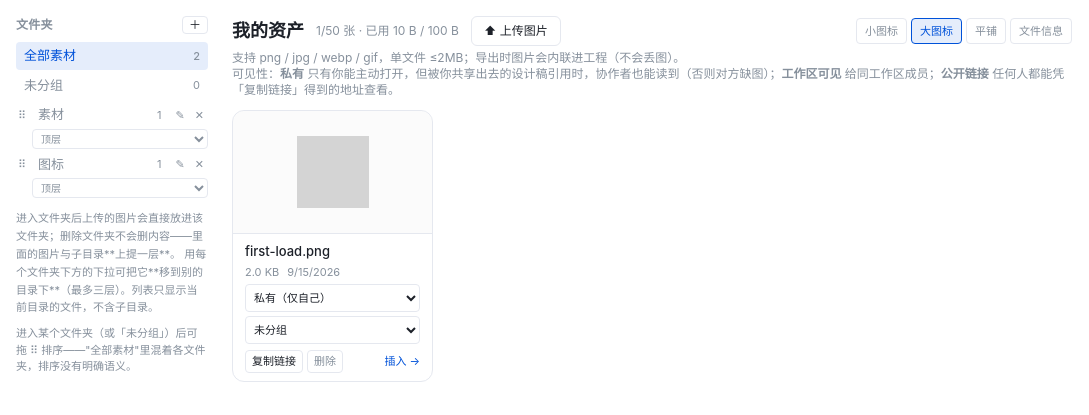
Test: AssetsPage 过期响应 › 切换文件夹时，慢的旧资产响应不能覆盖当前网格
The width and height of the screenshot is (1089, 415).
Expected: the text "first-load.png" is shown, [245,242,330,262]
Note: 先点文件夹 2（请求挂着），再点文件夹 1（请求立刻返回最新结果）
Click the button with test id "folder-2" at [100, 164], box [30,150,170,178]
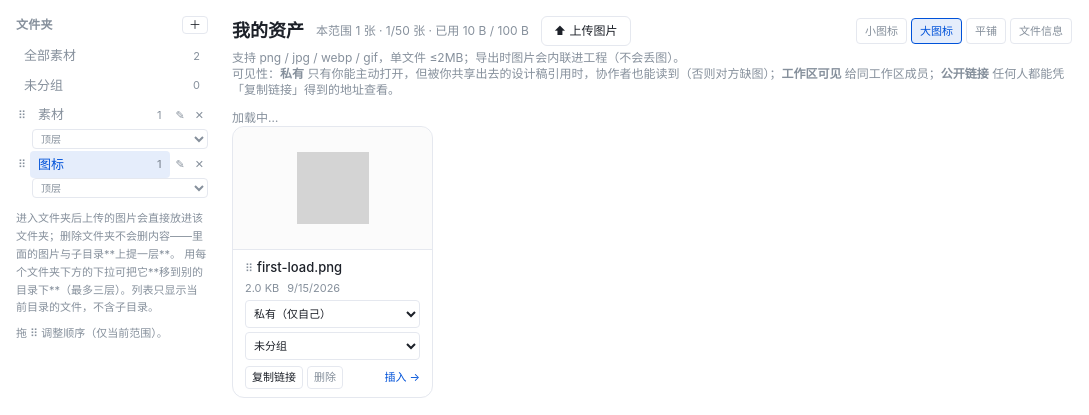
Click the button with test id "folder-1" at [100, 115], box [30,101,170,128]
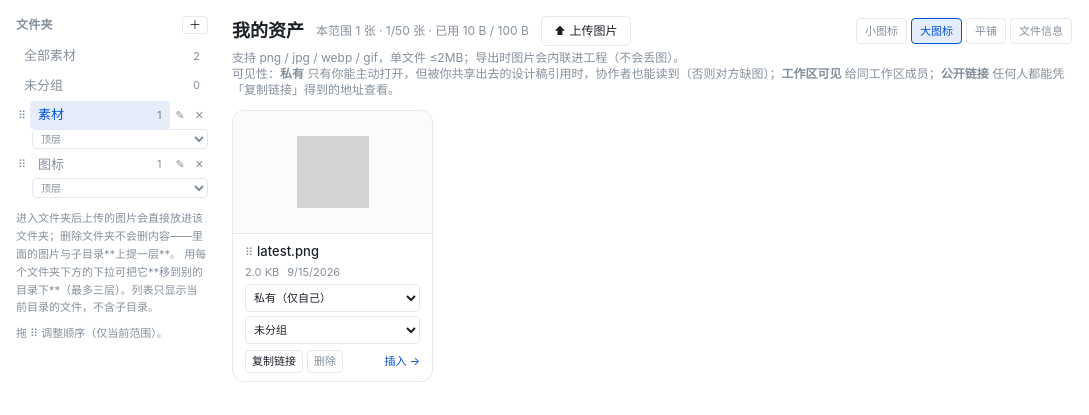
Expected: the text "latest.png" is shown, [257,242,319,262]
